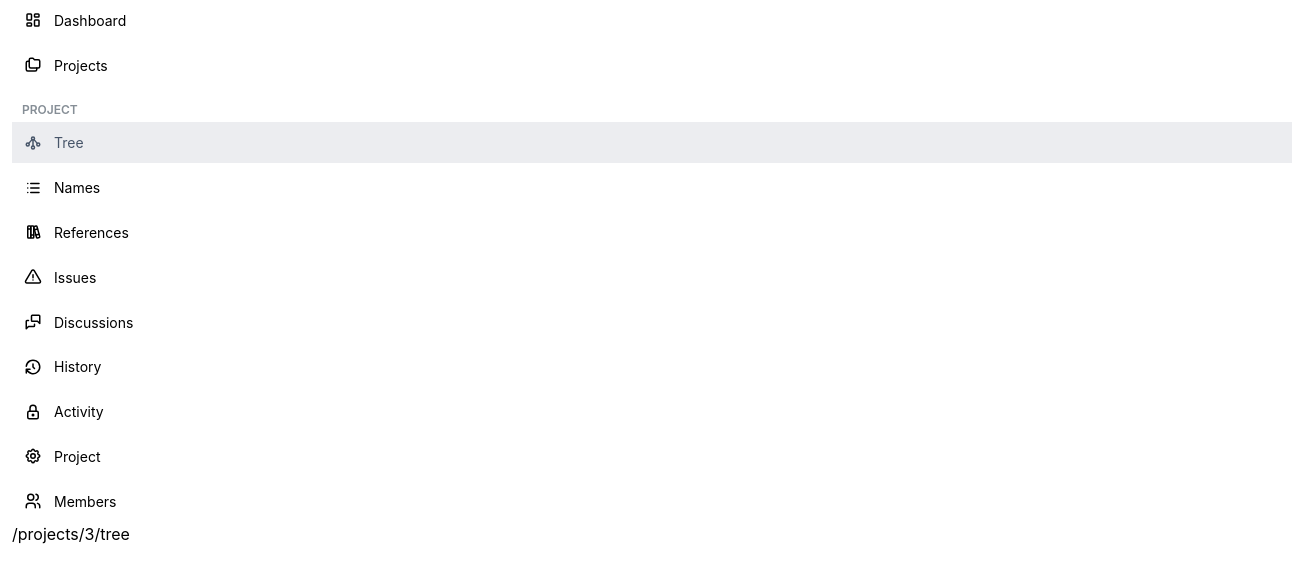
Test case: inside a project it lists the section links and navigates on click
This screenshot has width=1292, height=561.
Expected: the text "Tree" is shown, [54, 134, 84, 151]
Expected: the 1st text "Project" is shown, [22, 102, 78, 117]
Click the text "Names" at (77, 188), box [54, 179, 100, 196]
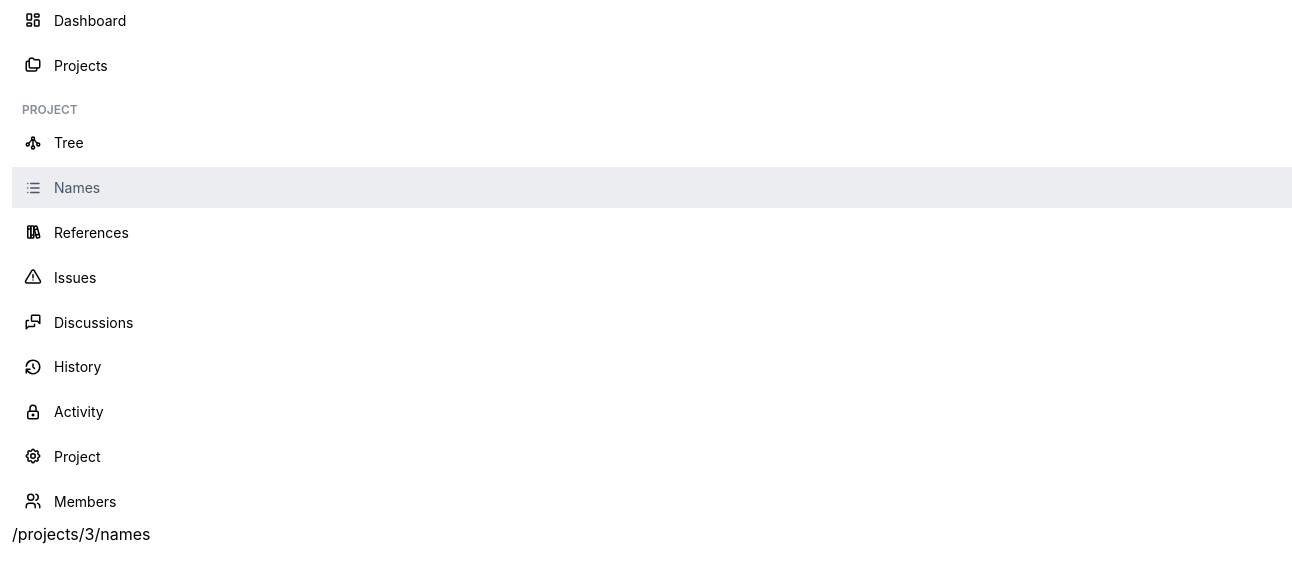
Now the text with test id "loc" reads "/projects/3/names", box [12, 524, 150, 544]
